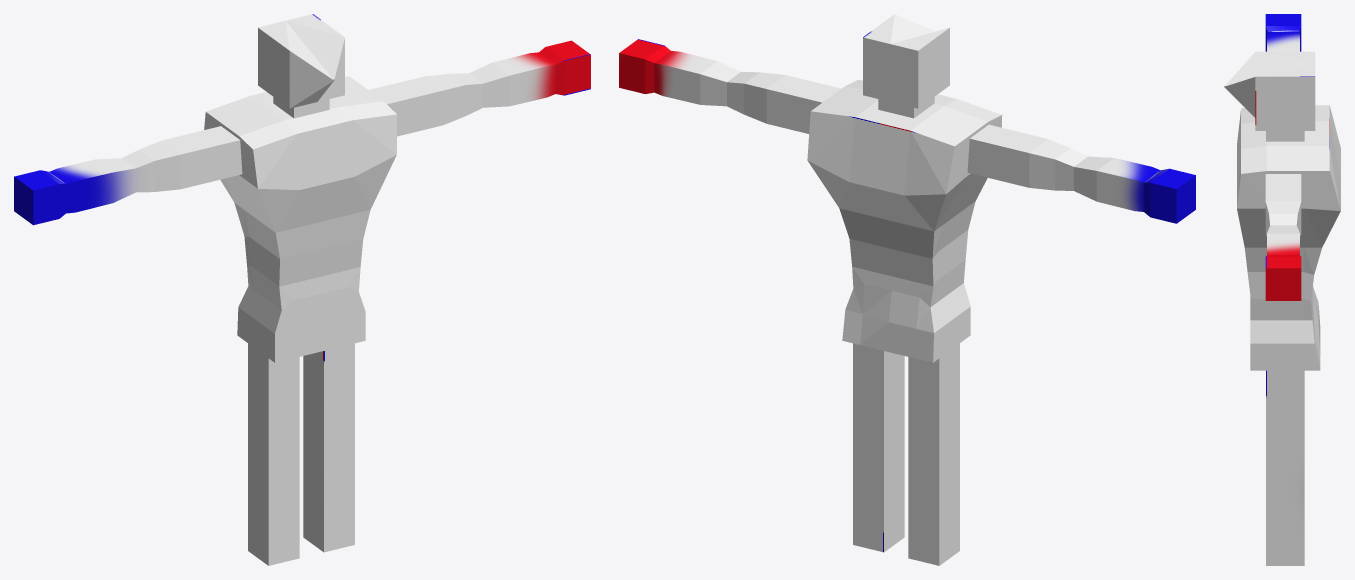
Rendered from player.obj.
3 renders of one model, left to right at view 1: azimuth 30°, elevation 25°; view 2: azimuth 150°, elevation 25°; view 3: azimuth 270°, elevation 25°, orthographic. The views are drawn at different scales.
Parts seen in each view (by area): view 1: 立方体.005; view 2: 立方体.005; view 3: 立方体.005.
Boxes of the visible parts, x1,y1,x2,y2 form: 立方体.005: (14,14,590,565); 立方体.005: (619,14,1195,565); 立方体.005: (1224,14,1340,565).
Bounding box in the file's own units: 10.08 × 8.9 × 1.95.
1 material, 1 textured.
